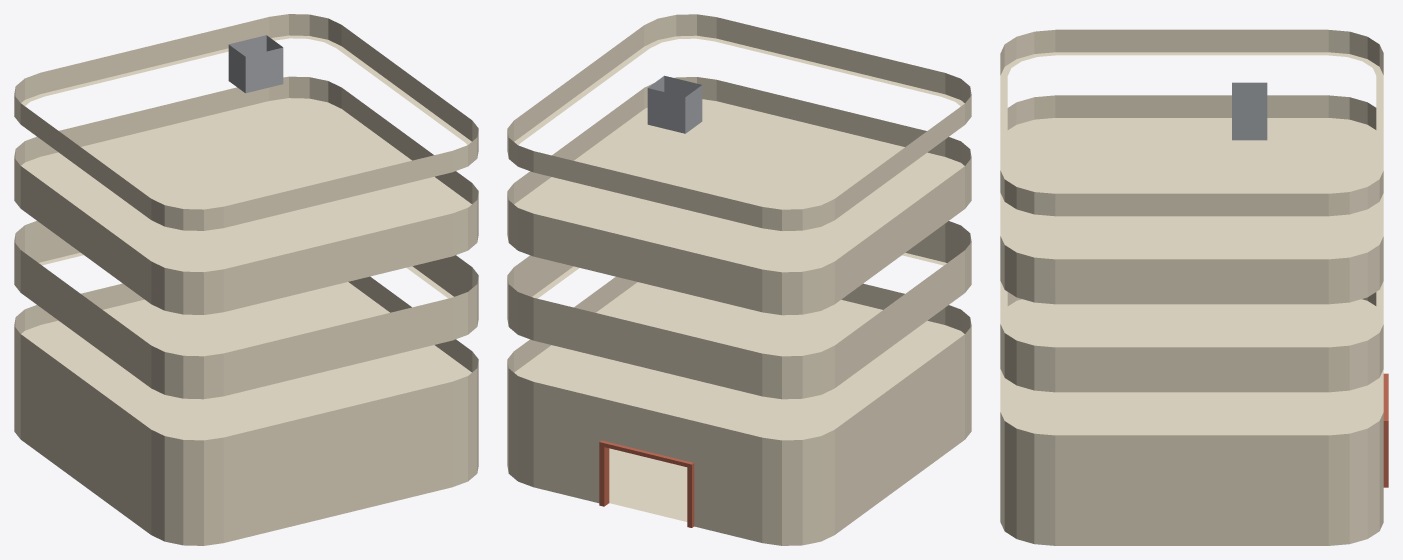
Rendered from Bld_R_high_L5_A.fbx.
3 views of the same model, side by side, from view 1: azimuth 30°, elevation 25°; view 2: azimuth 150°, elevation 25°; view 3: azimuth 270°, elevation 25° (orthographic). The views are drawn at different scales.
Visible parts, largest first — view 1: Bld_R_high_L5_A_LOD0; view 2: Bld_R_high_L5_A_LOD0; view 3: Bld_R_high_L5_A_LOD0.
Part boxes in pixels (left/top/right/bottom): Bld_R_high_L5_A_LOD0: left=14, top=14, right=478, bottom=545; Bld_R_high_L5_A_LOD0: left=507, top=14, right=971, bottom=545; Bld_R_high_L5_A_LOD0: left=1000, top=29, right=1388, bottom=545.
Size of what is drawn, in the model's own units: 2200 by 2763 by 2200.
1 material, 1 textured.
